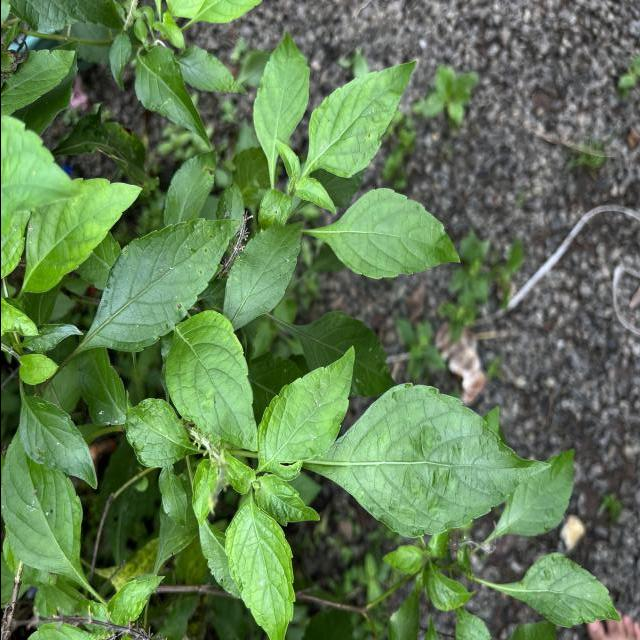Ocimum gratissimum: (312, 378, 554, 539), (76, 216, 242, 356), (298, 55, 418, 182), (248, 342, 358, 480), (18, 176, 144, 296), (314, 184, 464, 282), (160, 306, 258, 454), (0, 426, 86, 590), (482, 548, 626, 631), (219, 492, 296, 640), (216, 216, 306, 334), (250, 24, 311, 192), (130, 44, 217, 152), (14, 392, 102, 494)
